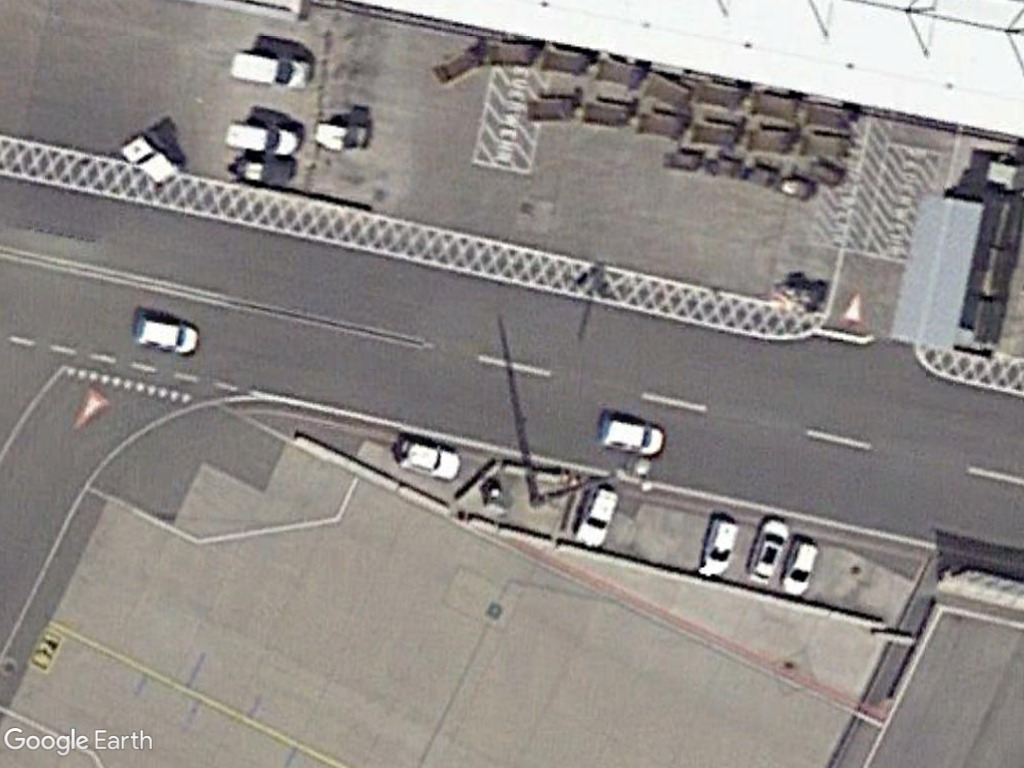car: (746, 515, 793, 585)
van: (229, 47, 315, 93), (393, 434, 466, 483), (599, 410, 666, 459), (573, 482, 622, 549), (222, 118, 301, 159), (133, 313, 203, 358), (697, 514, 744, 578), (777, 537, 821, 597)
